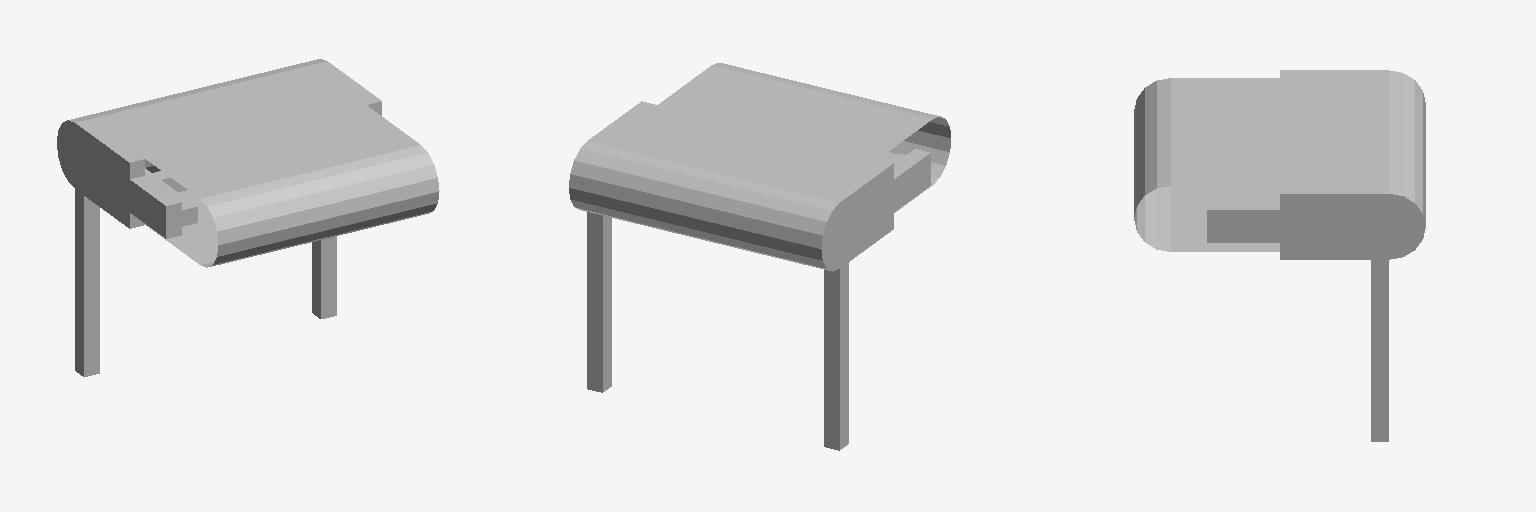
File: belt_front.obj
3 views of the same model, side by side, from view 1: azimuth 30°, elevation 25°; view 2: azimuth 150°, elevation 25°; view 3: azimuth 270°, elevation 25° (orthographic).
Parts seen in each view (by area): view 1: belt_back_outer_Cylinder.010, legs_Cylinder.001, belt_back_inner_Cylinder.011, belt_front_outer_Cylinder.005, belt_front_inner_Cylinder.009, supports_Cylinder.008; view 2: belt_front_outer_Cylinder.005, legs_Cylinder.001, belt_back_outer_Cylinder.010, belt_front_inner_Cylinder.009, belt_back_inner_Cylinder.011; view 3: legs_Cylinder.001, belt_back_outer_Cylinder.010, belt_front_outer_Cylinder.005, belt_back_inner_Cylinder.011, belt_front_inner_Cylinder.009.
Boxes of the visible parts, <box> form: belt_back_outer_Cylinder.010: <box>146,105,438,267</box>; legs_Cylinder.001: <box>57,59,381,376</box>; belt_back_inner_Cylinder.011: <box>147,106,439,267</box>; belt_front_outer_Cylinder.005: <box>85,63,364,211</box>; belt_front_inner_Cylinder.009: <box>84,63,365,224</box>; supports_Cylinder.008: <box>145,168,197,226</box>; belt_front_outer_Cylinder.005: <box>584,106,877,266</box>; legs_Cylinder.001: <box>569,101,930,450</box>; belt_back_outer_Cylinder.010: <box>658,63,950,212</box>; belt_front_inner_Cylinder.009: <box>585,105,876,266</box>; belt_back_inner_Cylinder.011: <box>659,63,950,212</box>; legs_Cylinder.001: <box>1207,70,1425,441</box>; belt_back_outer_Cylinder.010: <box>1134,78,1279,251</box>; belt_front_outer_Cylinder.005: <box>1280,78,1425,216</box>; belt_back_inner_Cylinder.011: <box>1134,78,1279,251</box>; belt_front_inner_Cylinder.009: <box>1280,78,1425,208</box>.
Bounding box in the file's own units: 1 × 0.9375 × 1.